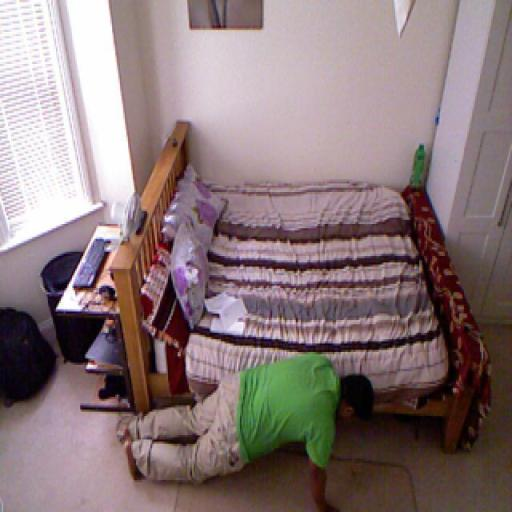Fall: (123, 353, 374, 512)
